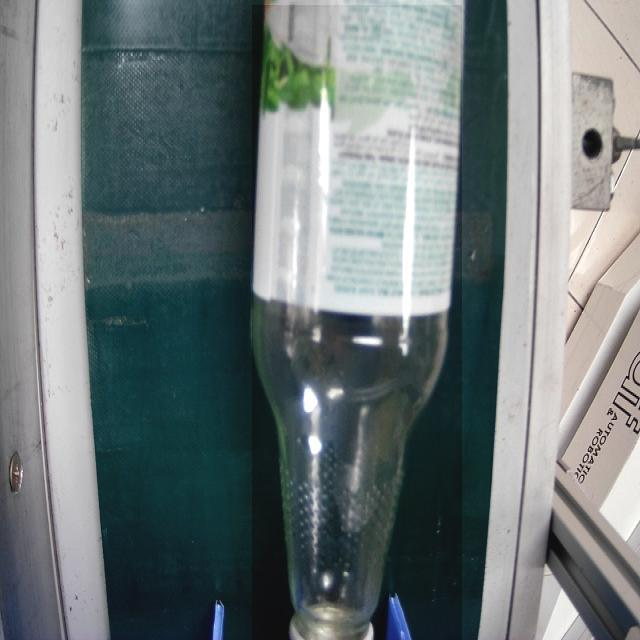Glass: (252, 5, 462, 640)
